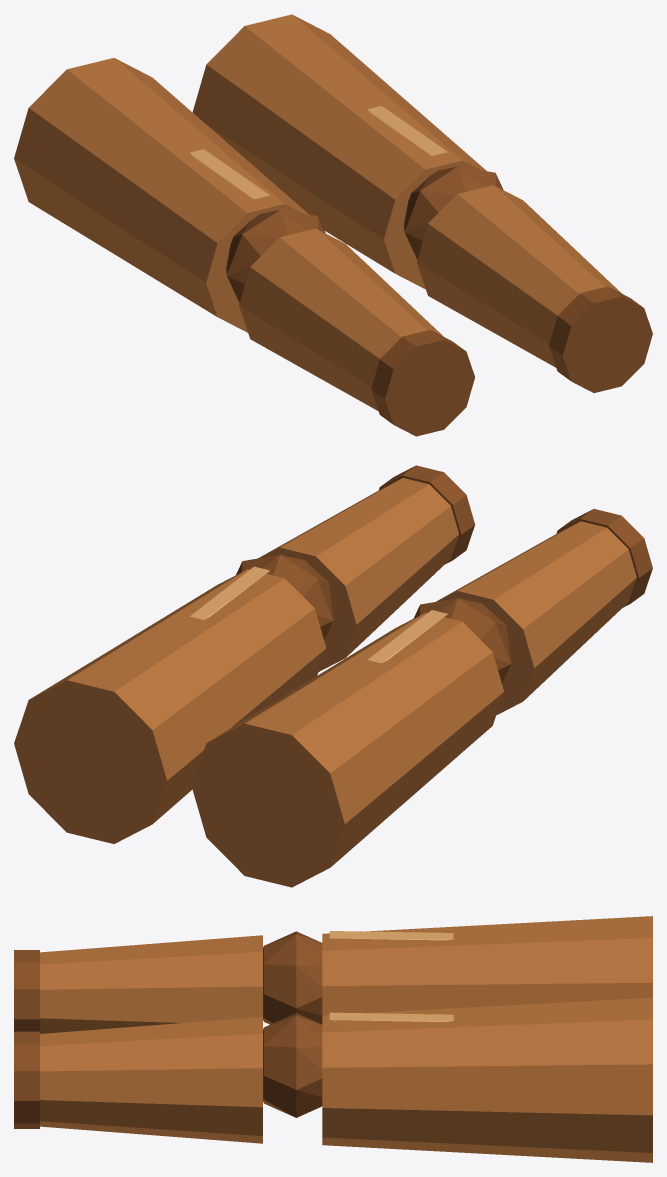
File: drop_bronze_legs.glb
3 renders of one model, top to bottom at view 1: azimuth 30°, elevation 25°; view 2: azimuth 150°, elevation 25°; view 3: azimuth 270°, elevation 25°, orthographic. The views are drawn at different scales.
Visible parts, largest first — view 1: drop_bronze_legs; view 2: drop_bronze_legs; view 3: drop_bronze_legs.
Part boxes in pixels (<box>): drop_bronze_legs: <box>14,14,652,436</box>; drop_bronze_legs: <box>14,465,652,887</box>; drop_bronze_legs: <box>14,916,652,1162</box>.
Size of the model in its own units: 0.3872 by 0.1704 by 0.688.
